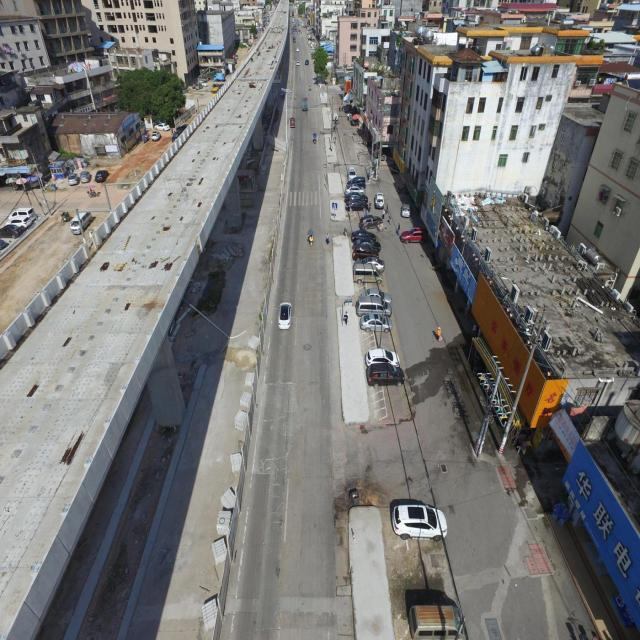car: (404, 588, 468, 640), (389, 498, 448, 542), (278, 302, 292, 329)
tree: (115, 66, 186, 130), (312, 46, 329, 84)
